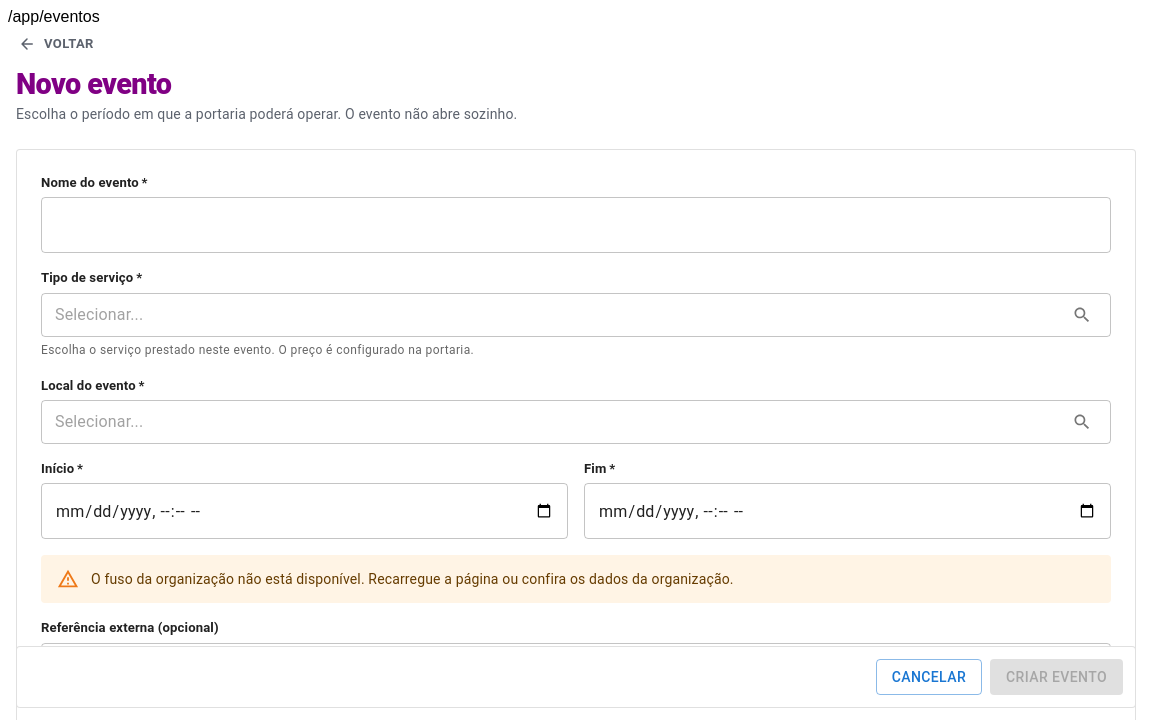
Test: EventsPage › não usa um fuso arbitrário quando o contexto da organização ainda não o informa
Expected: the message shows "O fuso da organização não está disponível", top-left (91, 571), bottom-right (734, 587)
Expected: the button "Criar evento" is disabled, top-left (990, 658), bottom-right (1123, 695)
Click the button named "Selecionar local do evento" at (1082, 422), box top-left (1067, 407), bottom-right (1097, 437)
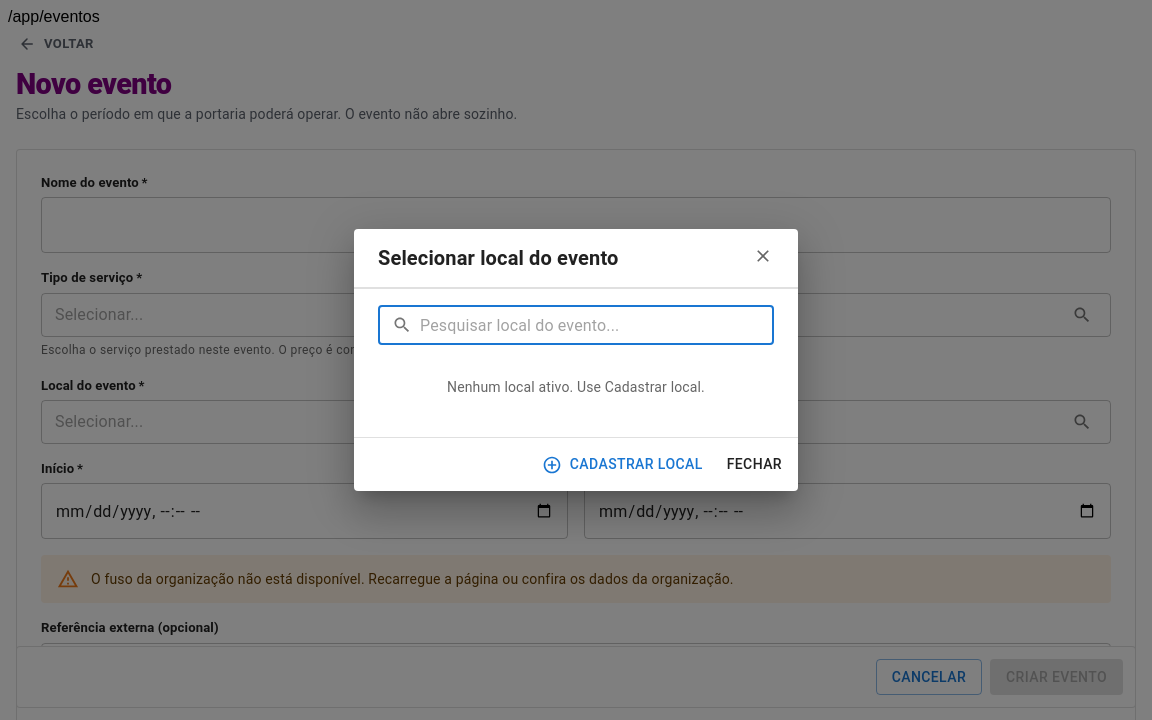
Click the button "Cadastrar local" at (624, 465), box top-left (538, 446), bottom-right (711, 483)
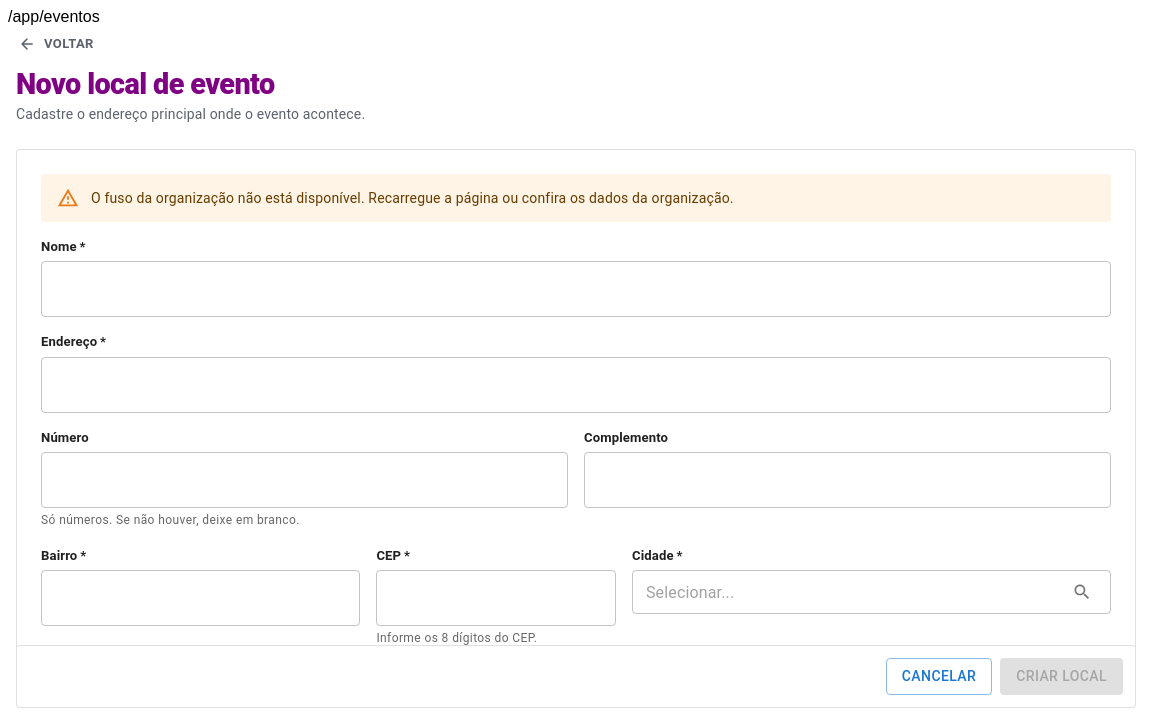
Expected: the message shows "O fuso da organização não está disponível", top-left (91, 190), bottom-right (734, 206)
Expected: the button "Criar local" is disabled, top-left (1000, 658), bottom-right (1123, 695)
